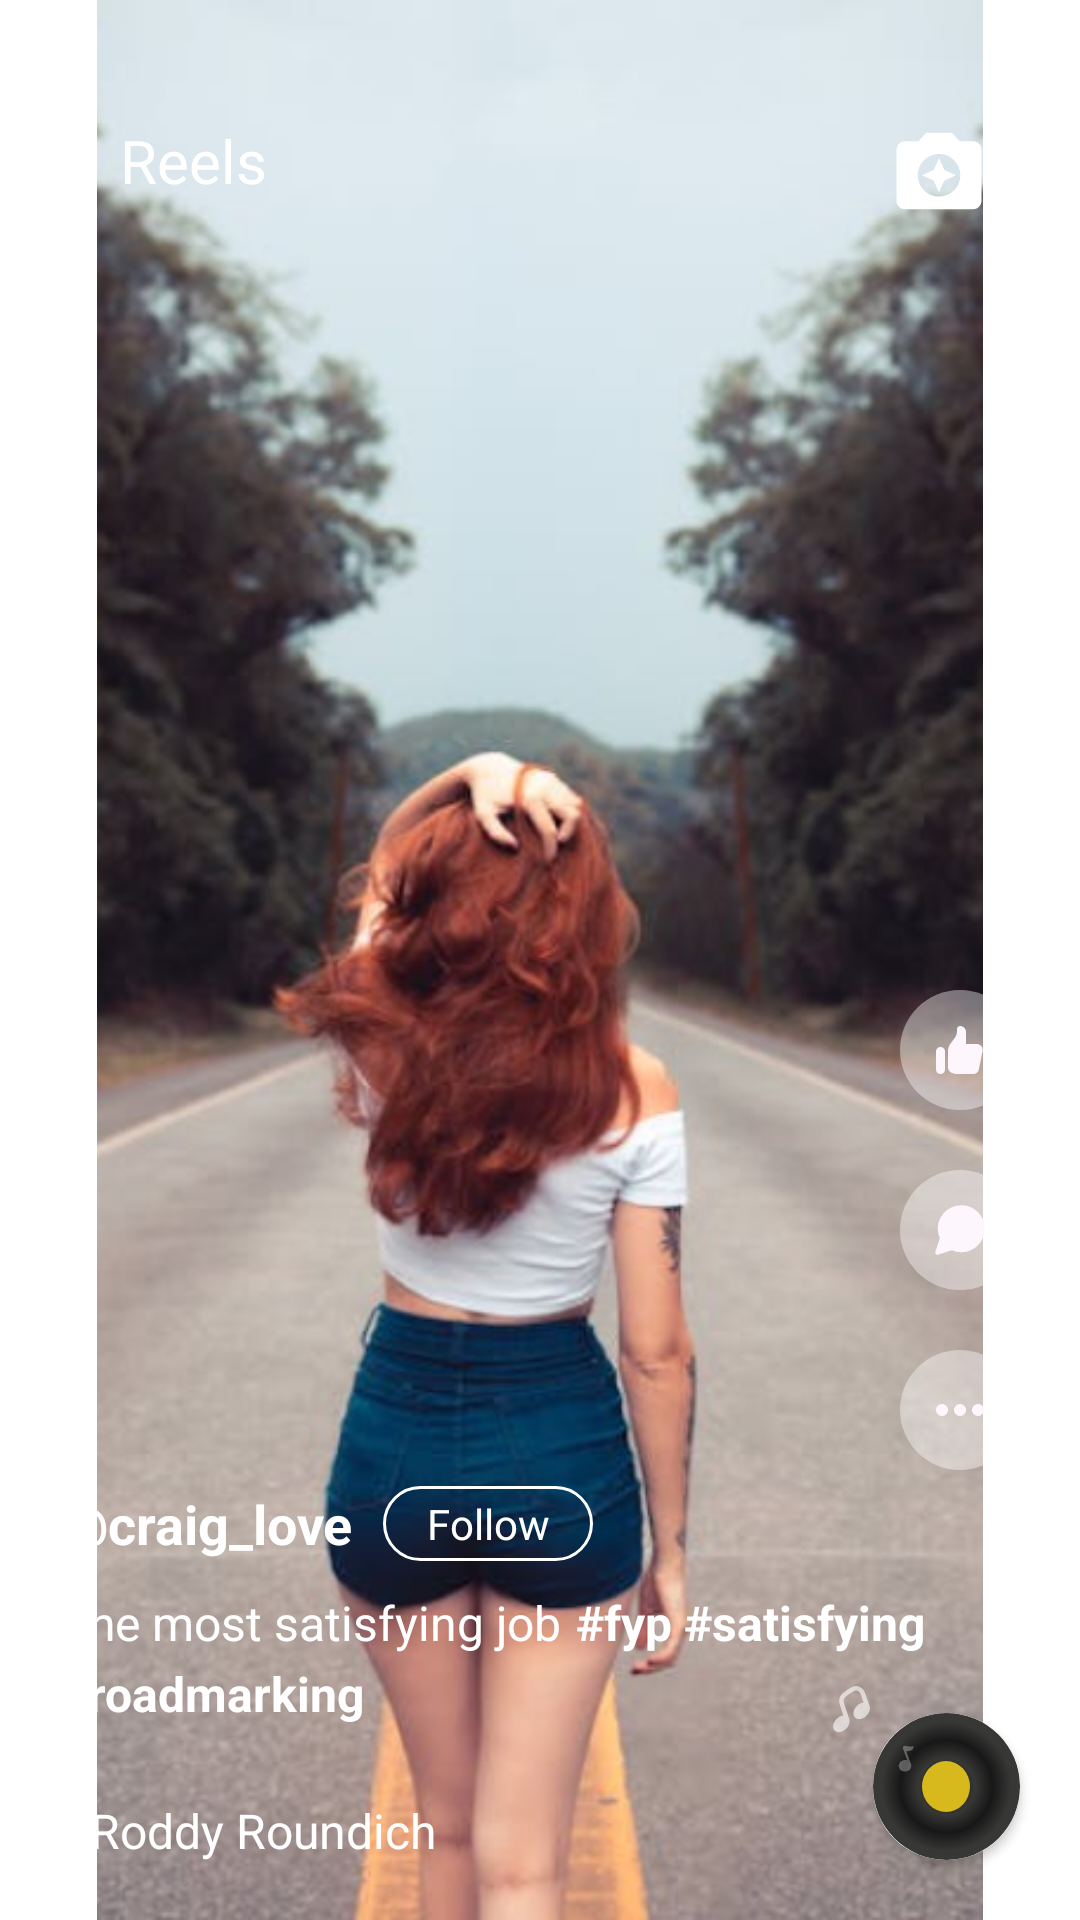

Icons on this 1080×1920 Android screen, each with the point to tap as point (x, y):
camera enhance: point (939, 171)
comment: point (960, 1230)
floating double tone: point (851, 1709)
like: point (960, 1050)
more: point (960, 1410)
music disc: point (946, 1786)
